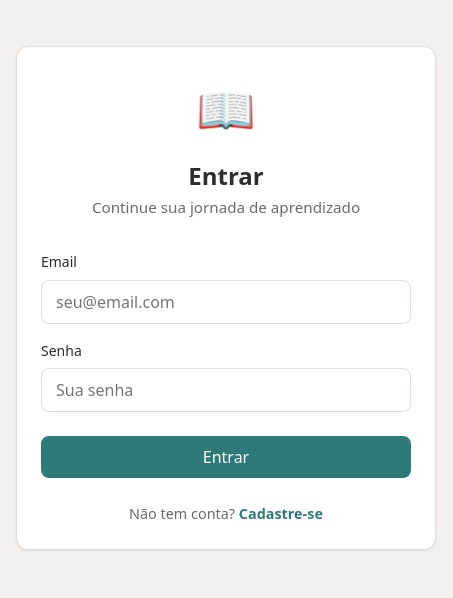
it: Login page › shows error on failed login
Step 1. Type "test@test.com" into the field with placeholder "seu@email.com" → [226, 302], box left=41, top=280, right=411, bottom=324
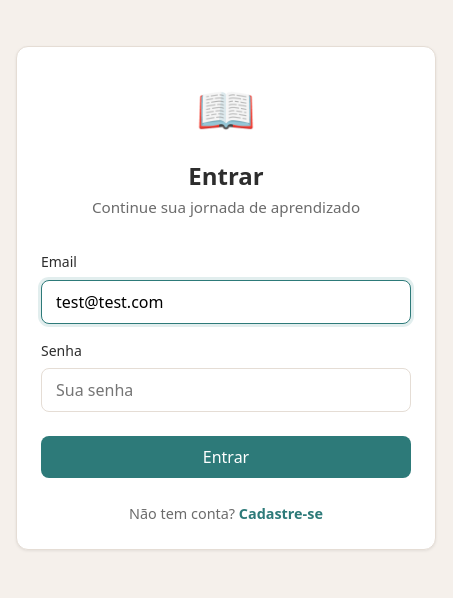
Step 2. Type "wrong" into the password field with placeholder "Sua senha" → [226, 390], box left=41, top=368, right=411, bottom=412
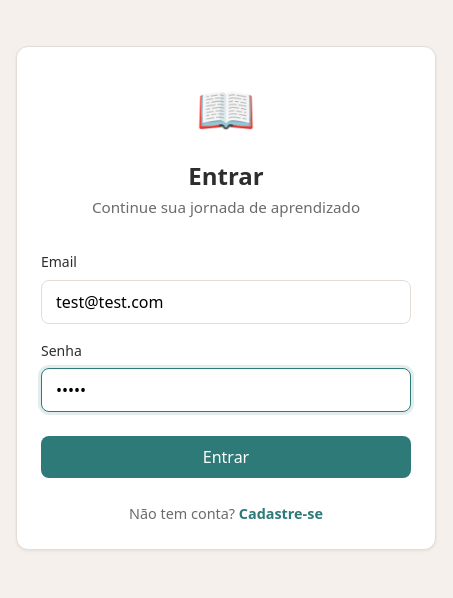
Step 3. Click the button "Entrar" → [226, 457], box left=41, top=436, right=411, bottom=478
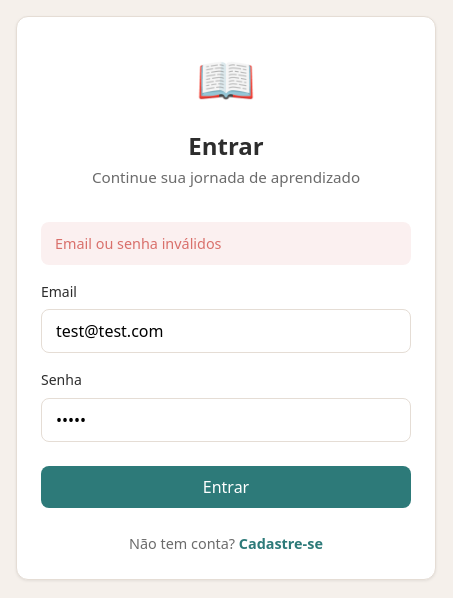
Result: the text "Email ou senha inválidos" is shown at left=41, top=222, right=411, bottom=265
